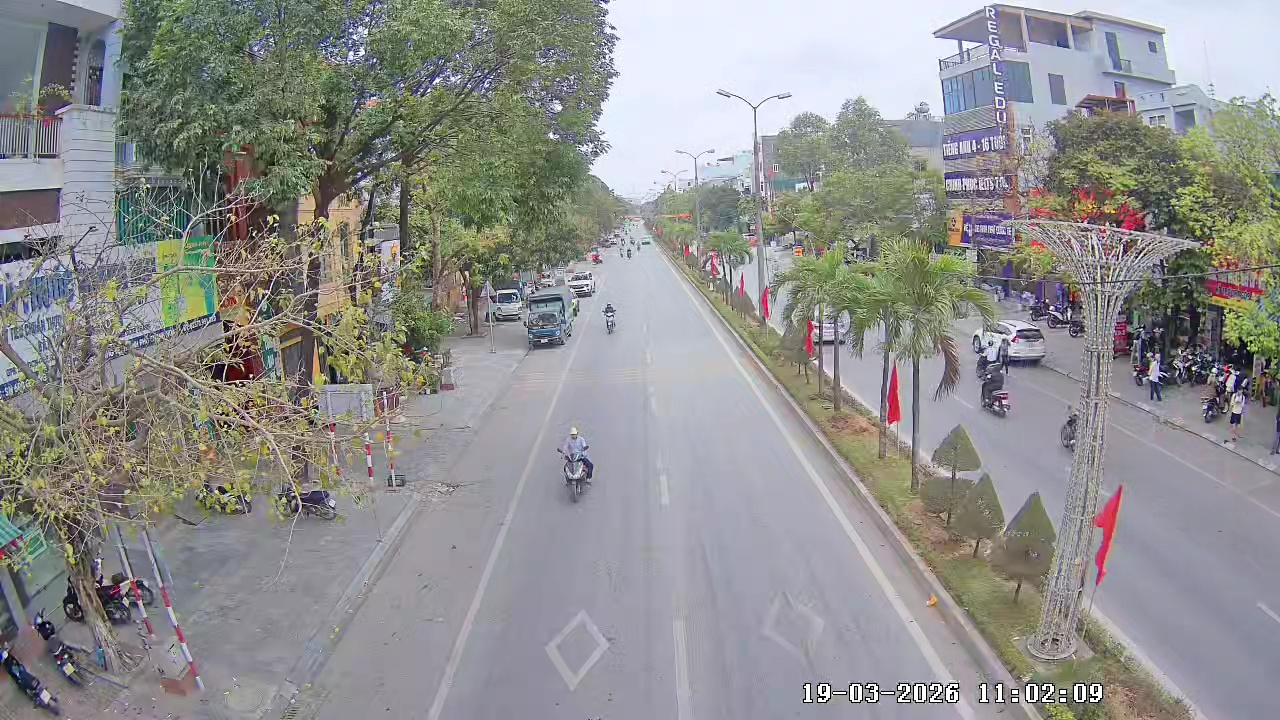car: (1005, 324, 1048, 367), (567, 265, 596, 299)
motorbike: (555, 424, 596, 503), (979, 364, 1011, 418), (602, 300, 619, 335)
truck: (523, 288, 573, 349)
